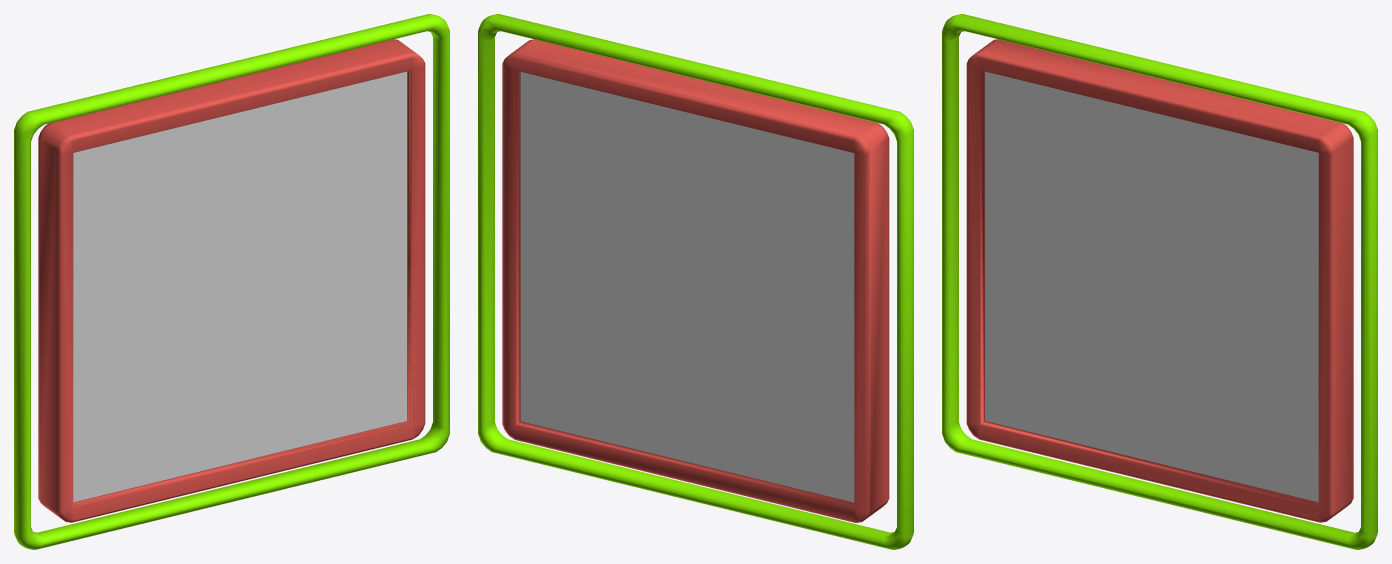
The model's file is BillBoard_04.fbx.
3 renders of one model, left to right at view 1: azimuth 30°, elevation 25°; view 2: azimuth 150°, elevation 25°; view 3: azimuth 330°, elevation 25°, orthographic.
Parts seen in each view (by area): view 1: BillBoard_04; view 2: BillBoard_04; view 3: BillBoard_04.
Part boxes in pixels (x1,y1,x2,y2): BillBoard_04: (14,14,449,549); BillBoard_04: (478,14,913,549); BillBoard_04: (942,14,1377,549).
Bounding box in the file's own units: 256 × 247 × 23.49.
